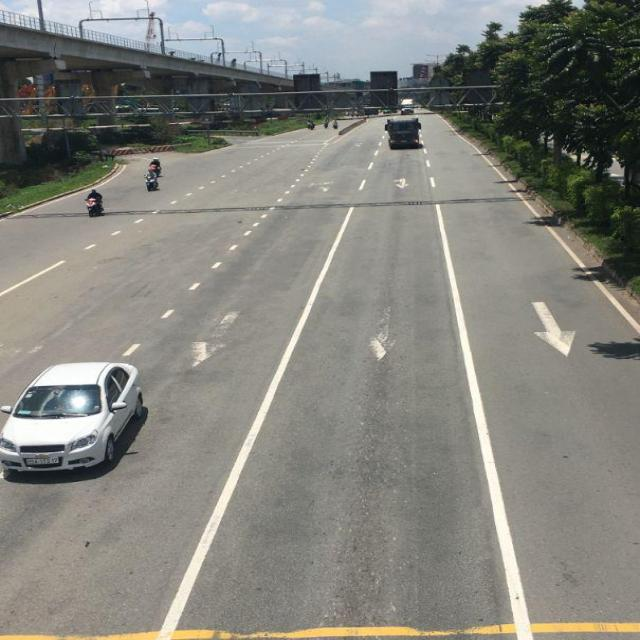car: (0, 361, 152, 477), (401, 100, 416, 114)
motorcycle: (87, 192, 104, 217), (146, 165, 161, 190)
truck: (388, 118, 422, 150)
